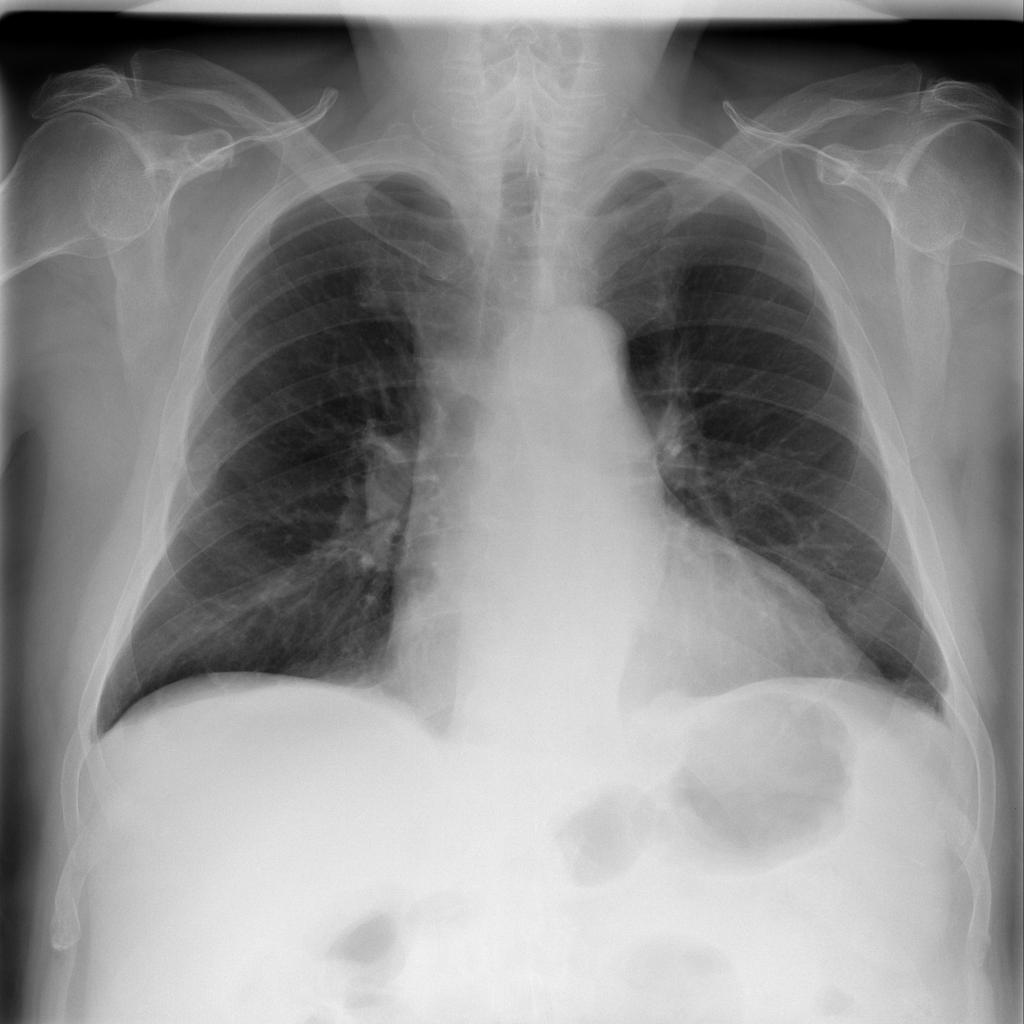nodule: (166, 426, 236, 509)
